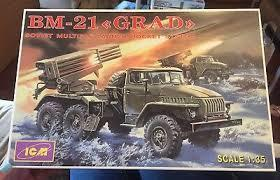MIL_SAM_TEL: (34, 44, 232, 157), (160, 50, 229, 81)
